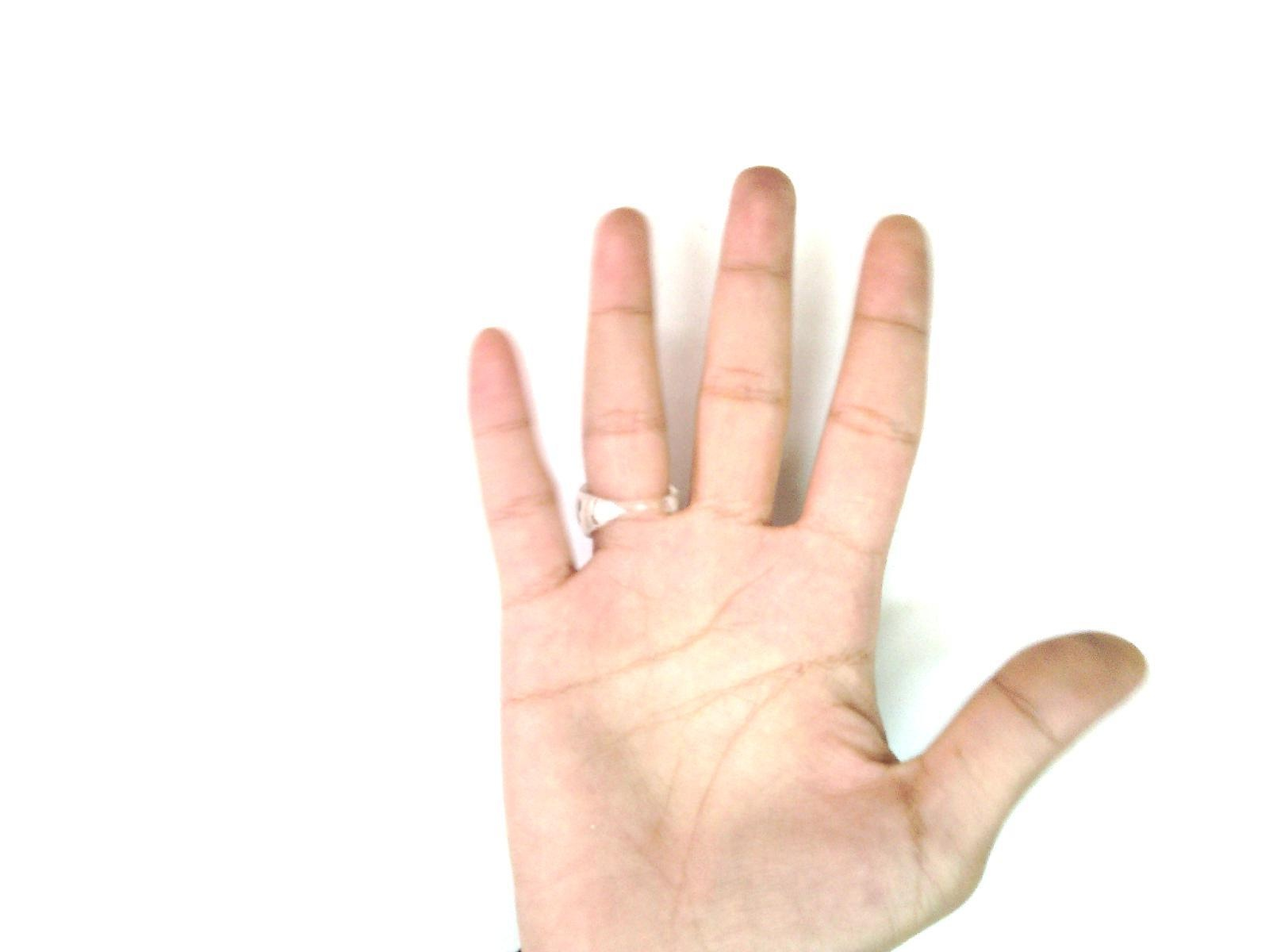open_palm: (462, 164, 1150, 952)
